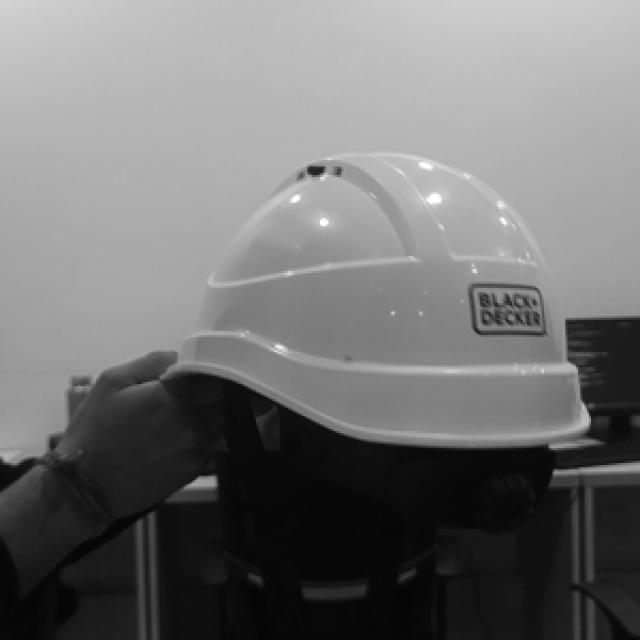safety_helmet: (171, 154, 591, 448)
